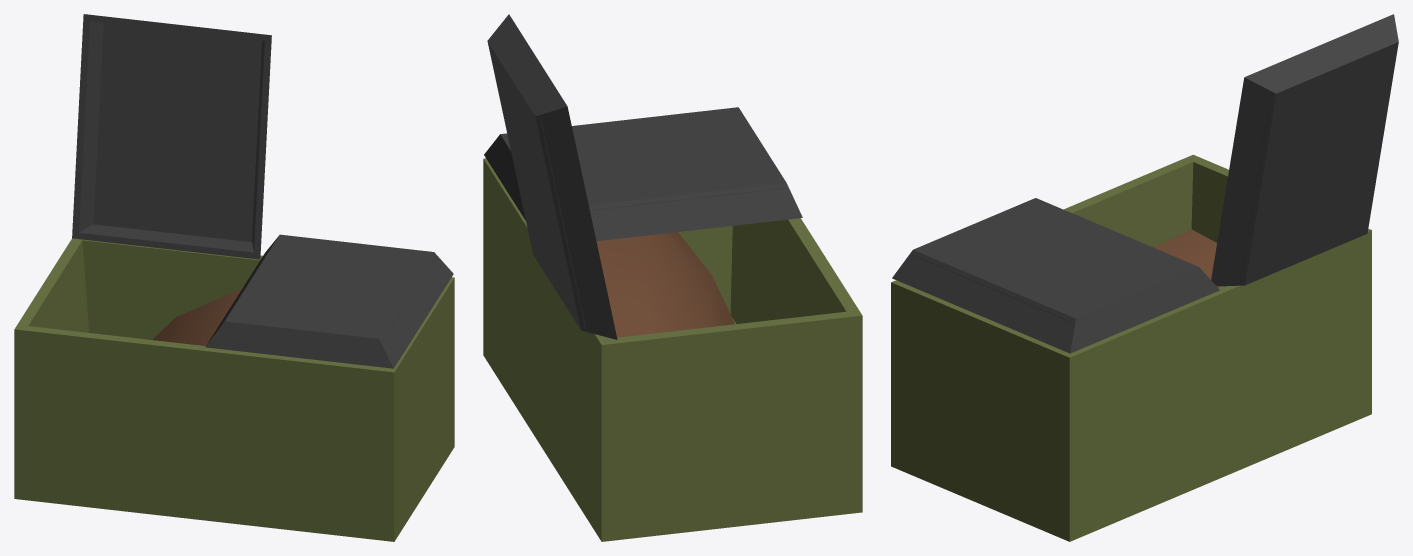
The model's file is Dumpster.fbx.
3 renders of one model, left to right at view 1: azimuth 30°, elevation 25°; view 2: azimuth 150°, elevation 25°; view 3: azimuth 270°, elevation 25°, orthographic. The views are drawn at different scales.
Visible parts, largest first — view 1: pCube54; view 2: pCube54; view 3: pCube54.
Part boxes in pixels (box(x1,y1,x2,y2)): pCube54: box(14, 14, 454, 541); pCube54: box(483, 14, 862, 541); pCube54: box(891, 14, 1398, 541).
Bounding box in the file's own units: 1.28 × 1.2 × 1.35.
